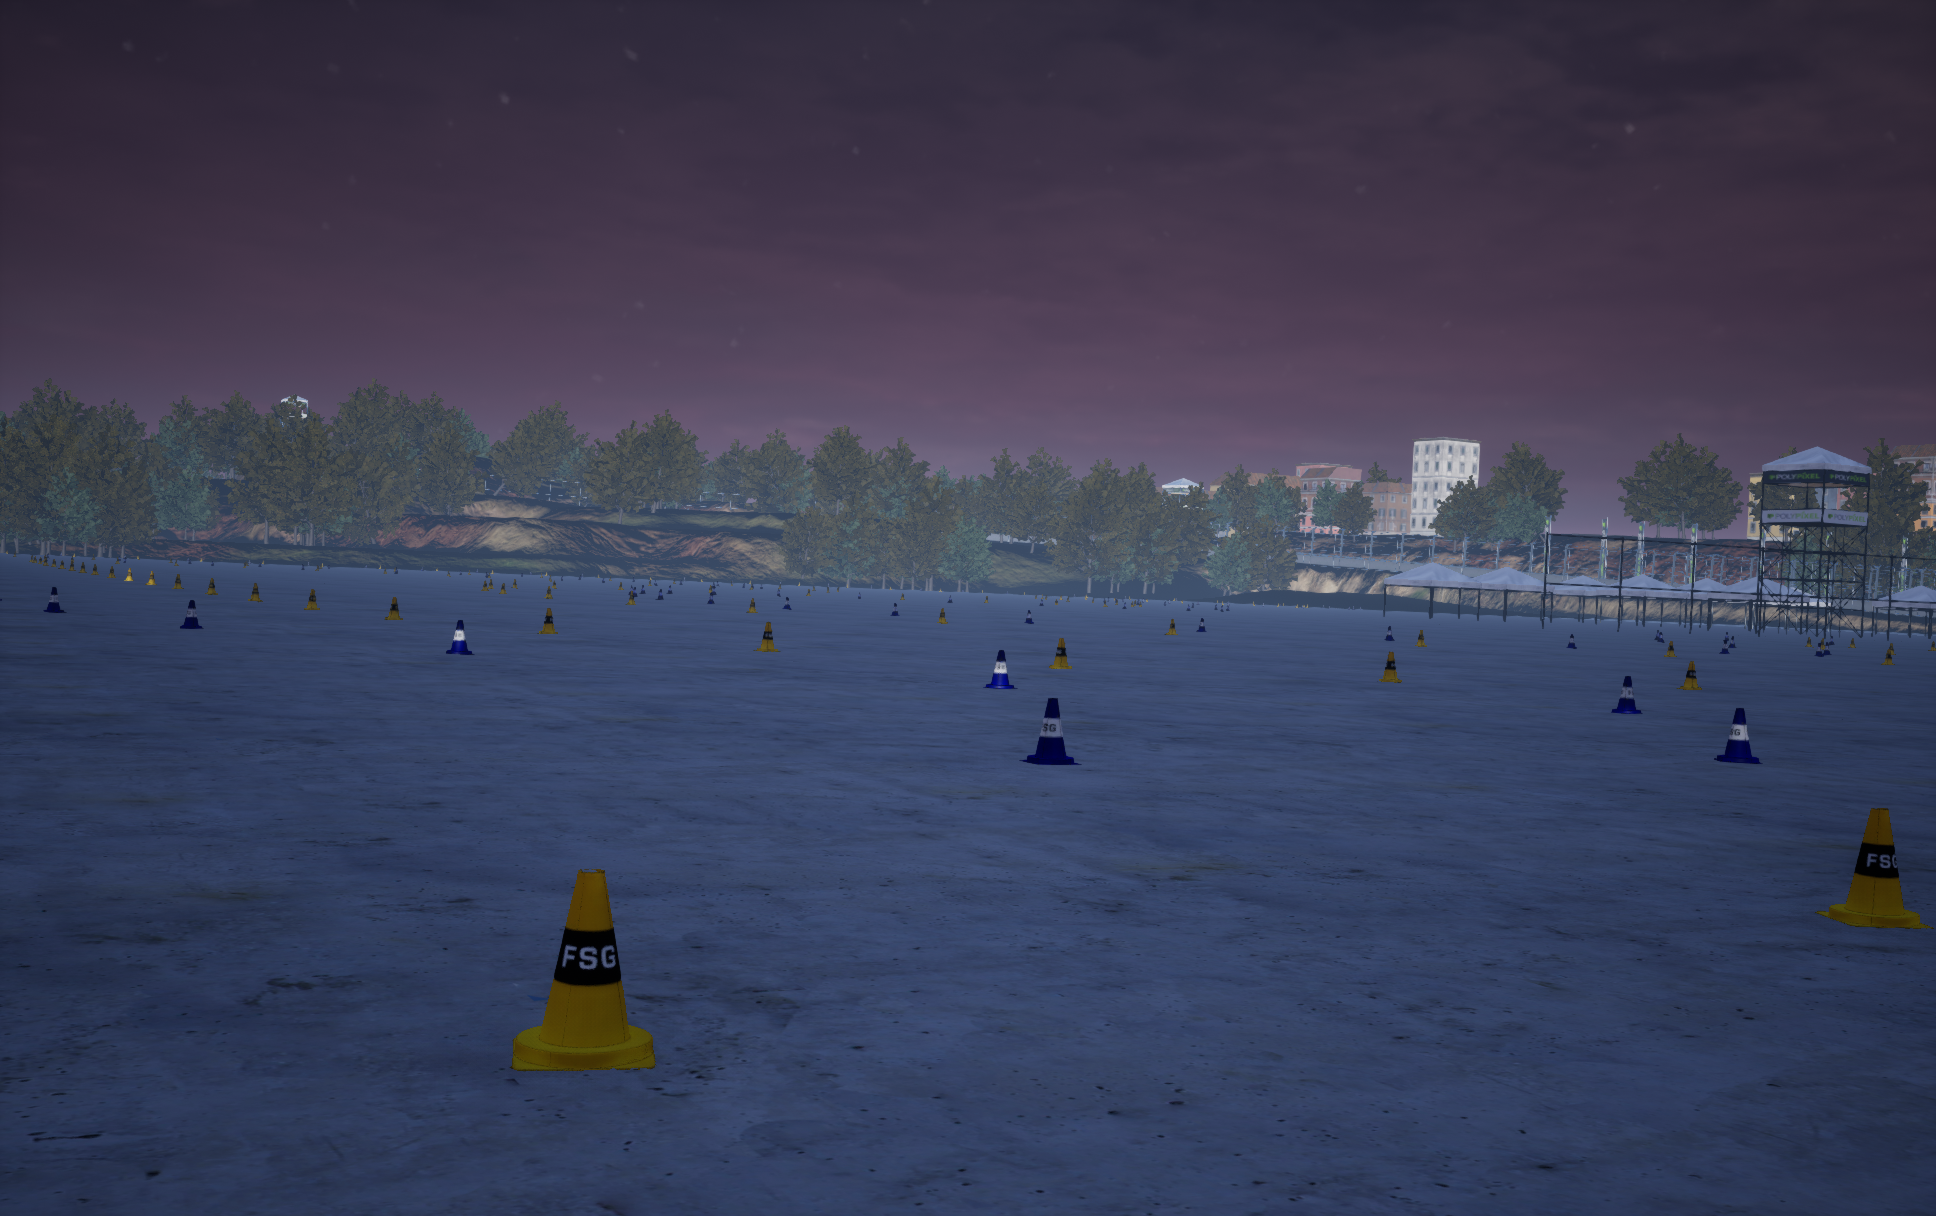blue: (509, 869, 656, 1070), (1816, 808, 1933, 927), (754, 622, 780, 651), (1377, 651, 1401, 682), (1675, 661, 1701, 689), (1049, 637, 1072, 668), (537, 608, 558, 633), (384, 597, 402, 619), (304, 588, 319, 609)
yellow: (1018, 698, 1081, 764), (1715, 707, 1762, 764), (983, 650, 1017, 688), (1611, 677, 1642, 713), (445, 621, 473, 654), (179, 600, 203, 628), (43, 587, 66, 612)
